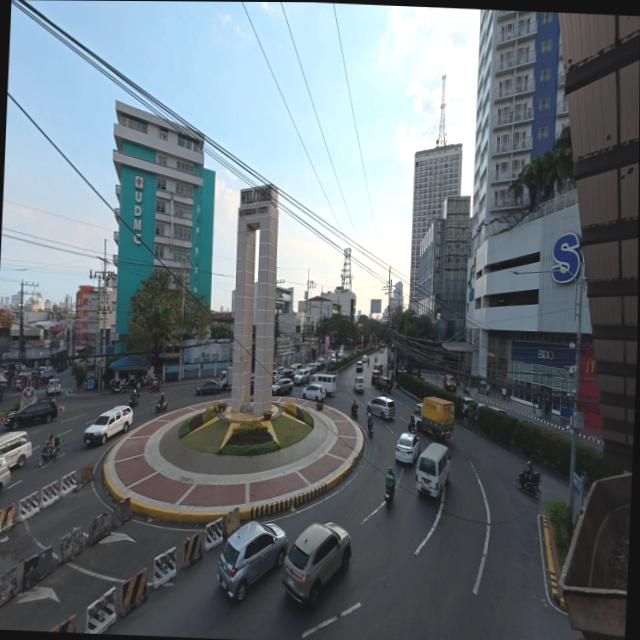car: (282, 522, 352, 608), (218, 521, 288, 601), (84, 406, 133, 445), (5, 398, 57, 429), (396, 434, 420, 463), (367, 398, 396, 419), (303, 383, 326, 402), (0, 456, 11, 494), (272, 378, 293, 395), (196, 381, 221, 395), (293, 369, 310, 384), (443, 374, 457, 392), (16, 371, 30, 389), (375, 377, 392, 391), (47, 378, 61, 394), (40, 368, 56, 382), (487, 405, 508, 415), (277, 367, 294, 379), (463, 397, 475, 414), (354, 377, 364, 394), (556, 636, 595, 640), (371, 370, 379, 385), (290, 364, 302, 373), (250, 374, 255, 394), (316, 359, 325, 370), (355, 360, 363, 372), (307, 363, 316, 373), (56, 364, 66, 372), (272, 369, 278, 380), (39, 366, 47, 373), (337, 351, 343, 360), (362, 355, 367, 362), (378, 346, 383, 353)
motorcycle: (516, 469, 540, 498), (38, 445, 60, 466), (155, 400, 168, 413), (385, 489, 394, 507), (111, 383, 124, 394), (129, 394, 140, 406), (149, 382, 159, 393), (351, 405, 358, 419), (368, 421, 373, 436), (409, 421, 415, 433), (463, 385, 470, 395)
trucks: (414, 397, 455, 438), (218, 366, 232, 390)
vans: (415, 444, 451, 497), (0, 431, 32, 467), (311, 374, 337, 394), (0, 456, 11, 493), (290, 364, 301, 372)
